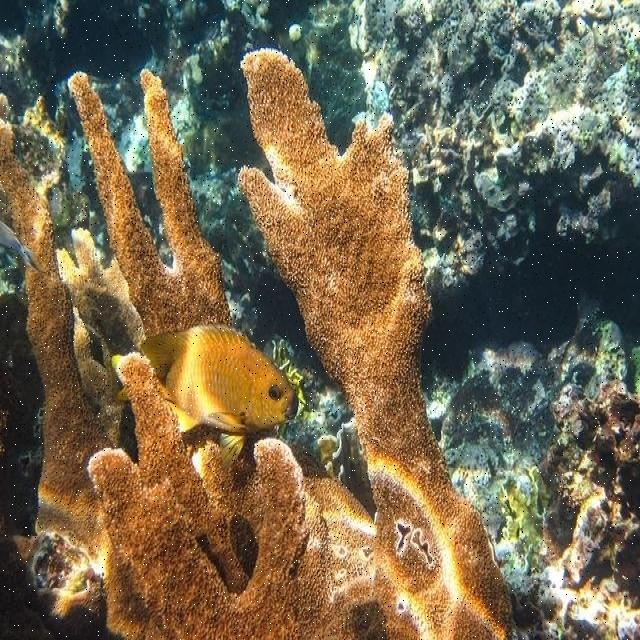fish: (140, 322, 299, 468)
reefs: (0, 48, 514, 639)
